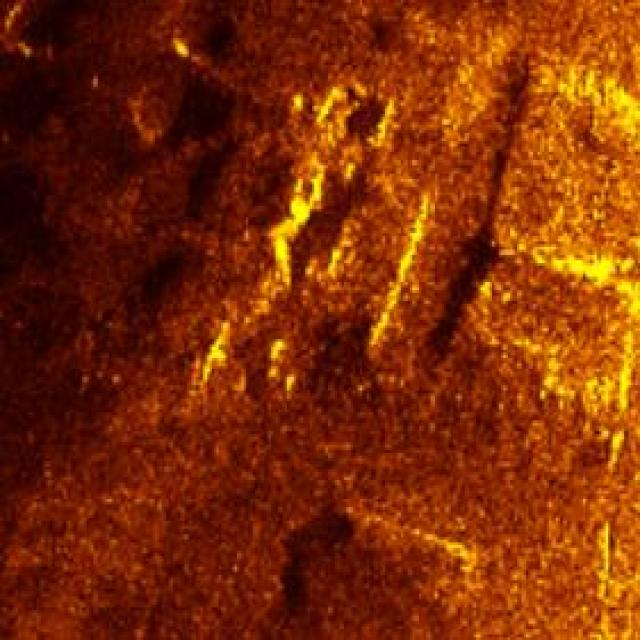other: (241, 68, 433, 366)
